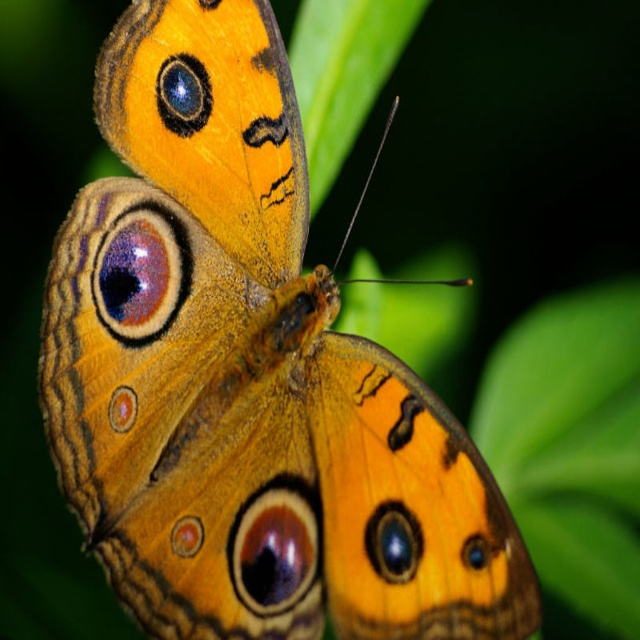Butterfly: (80, 43, 557, 640)
